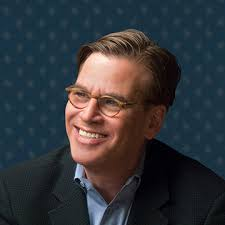Glasses: (57, 80, 135, 116)
